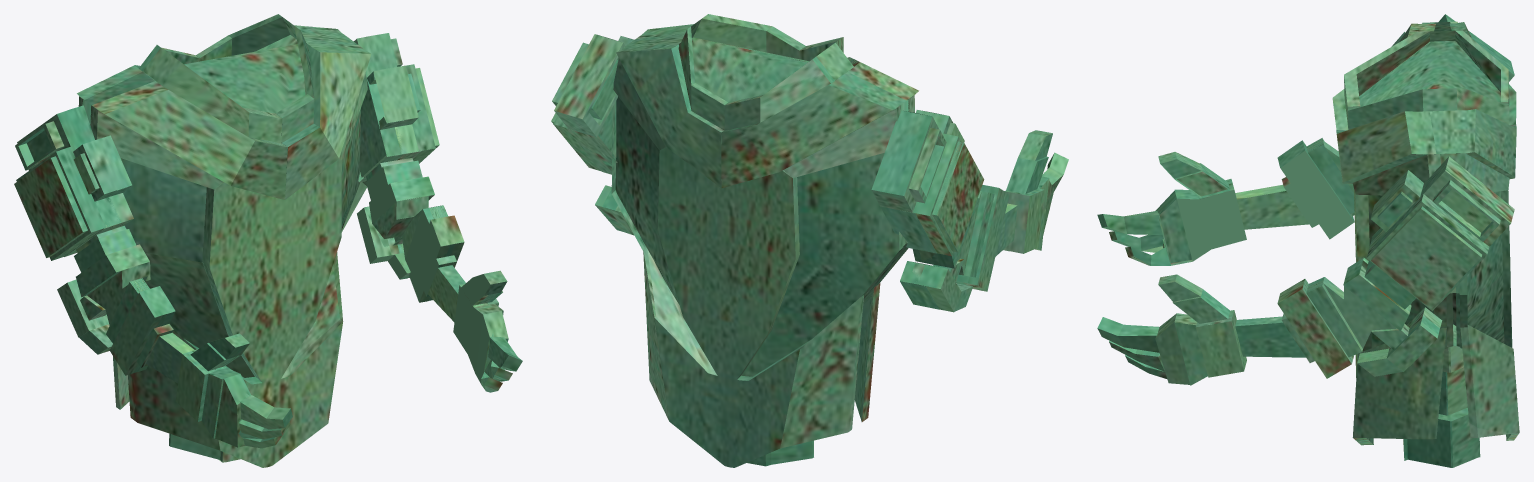
File: owlTorsoNew.fbx
3 views of the same model, side by side, from view 1: azimuth 30°, elevation 25°; view 2: azimuth 150°, elevation 25°; view 3: azimuth 270°, elevation 25° (orthographic). The views are drawn at different scales.
Parts seen in each view (by area): view 1: OwlChest; view 2: OwlChest; view 3: OwlChest.
Part boxes in pixels (box(x1,y1,x2,y2)): OwlChest: box(14, 14, 522, 467); OwlChest: box(551, 14, 1068, 467); OwlChest: box(1097, 14, 1519, 467).
Size of the model in its own units: 264 by 269 by 262.
